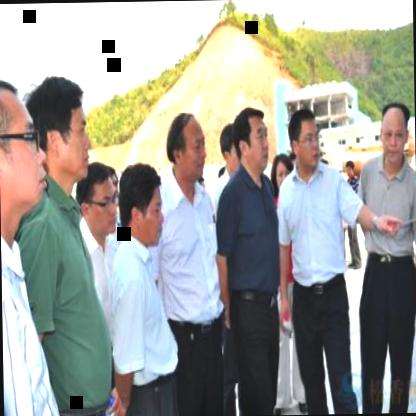head: (26, 69, 88, 208), (0, 71, 38, 221), (116, 160, 166, 247), (76, 158, 122, 239), (165, 108, 208, 187), (374, 96, 414, 167), (234, 104, 268, 180), (286, 104, 322, 172), (221, 119, 244, 174), (272, 148, 292, 192), (344, 156, 355, 180)
